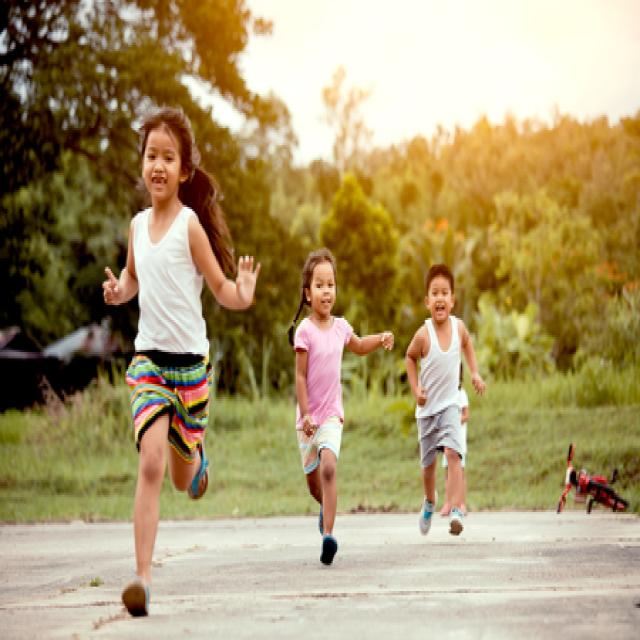Person: (104, 106, 260, 620), (286, 248, 394, 568), (405, 264, 487, 536)
